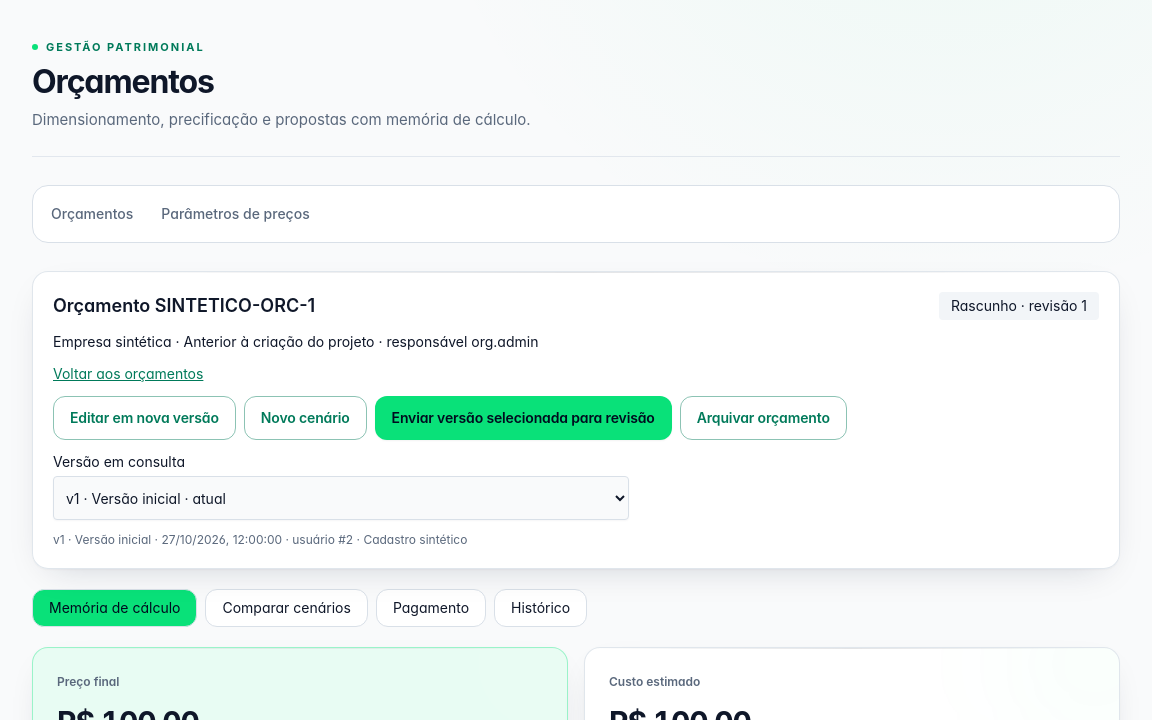
Test: Budget navigation uses real nested pages and version selection › navigates continuously through memory, payments, history, scenario comparison and organization pricing
Expected: the text "Preço final" is shown, [57, 674, 120, 689]
Click the link "Pagamento" at {"x": 431, "y": 608}, box [376, 589, 486, 627]
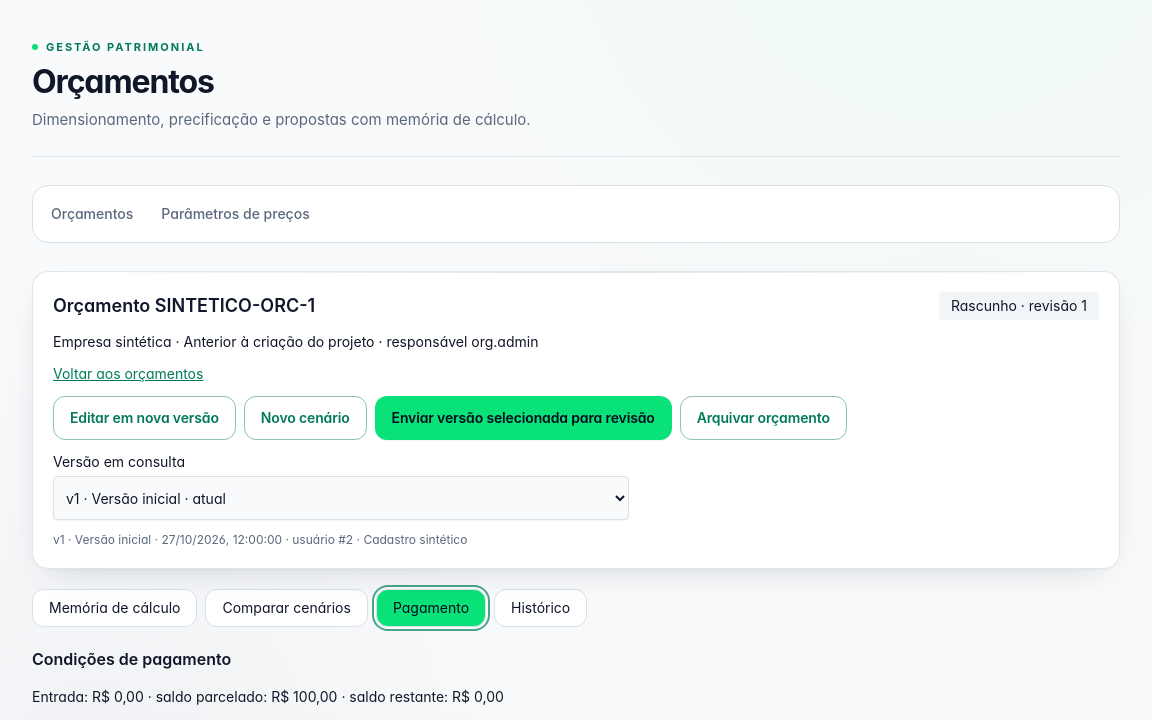
Click the link "Histórico" at {"x": 541, "y": 608}, box [494, 589, 587, 627]
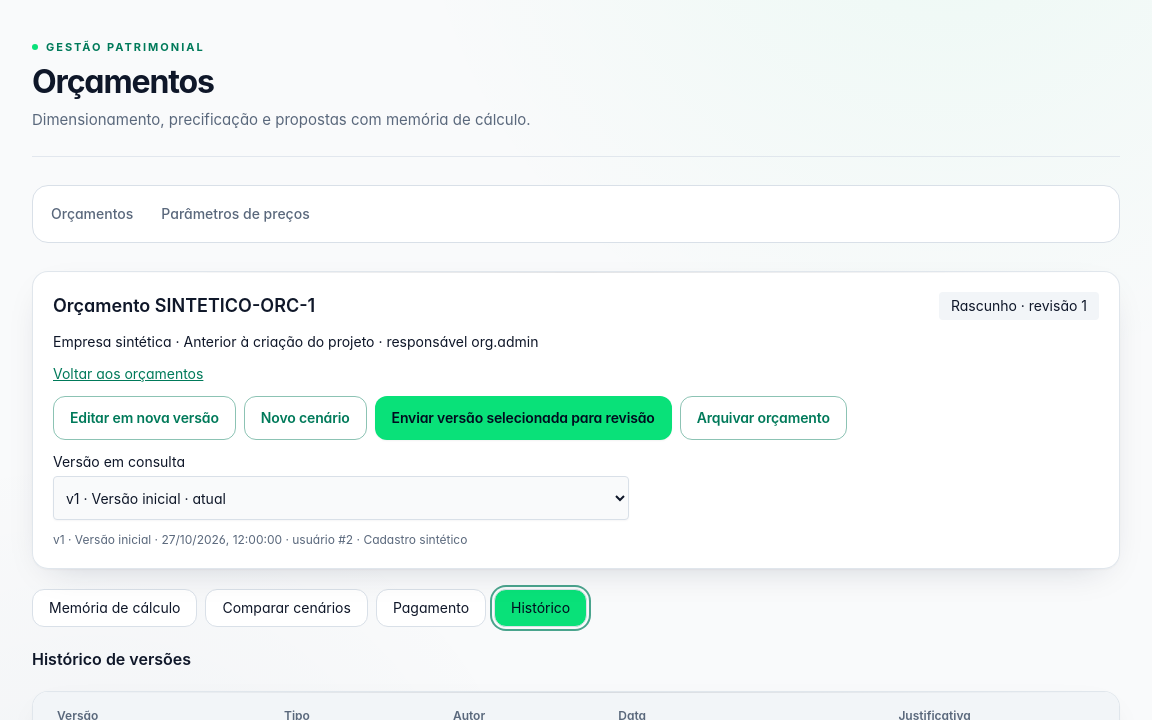
Expected: the heading "Histórico de versões" is shown, [32, 649, 191, 669]
Click the link "Comparar cenários" at {"x": 287, "y": 608}, box [206, 589, 368, 627]
(page scrolled)
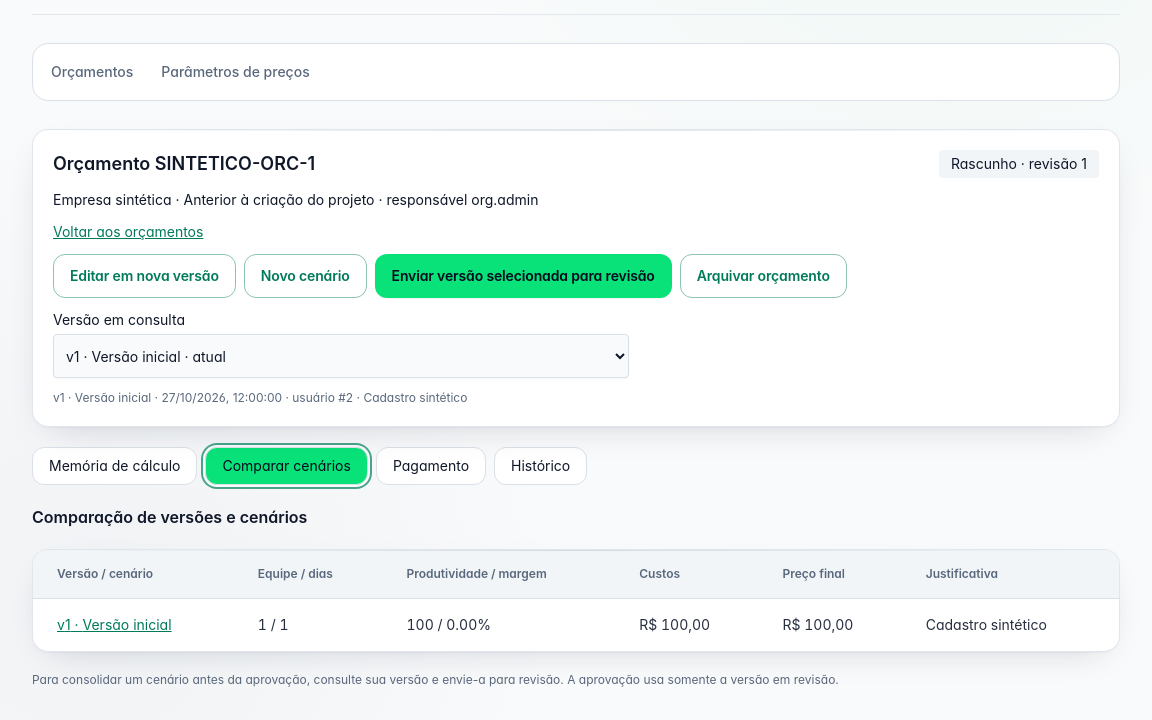
Click the button "v1 · Versão inicial" at {"x": 114, "y": 625}, box [57, 615, 172, 635]
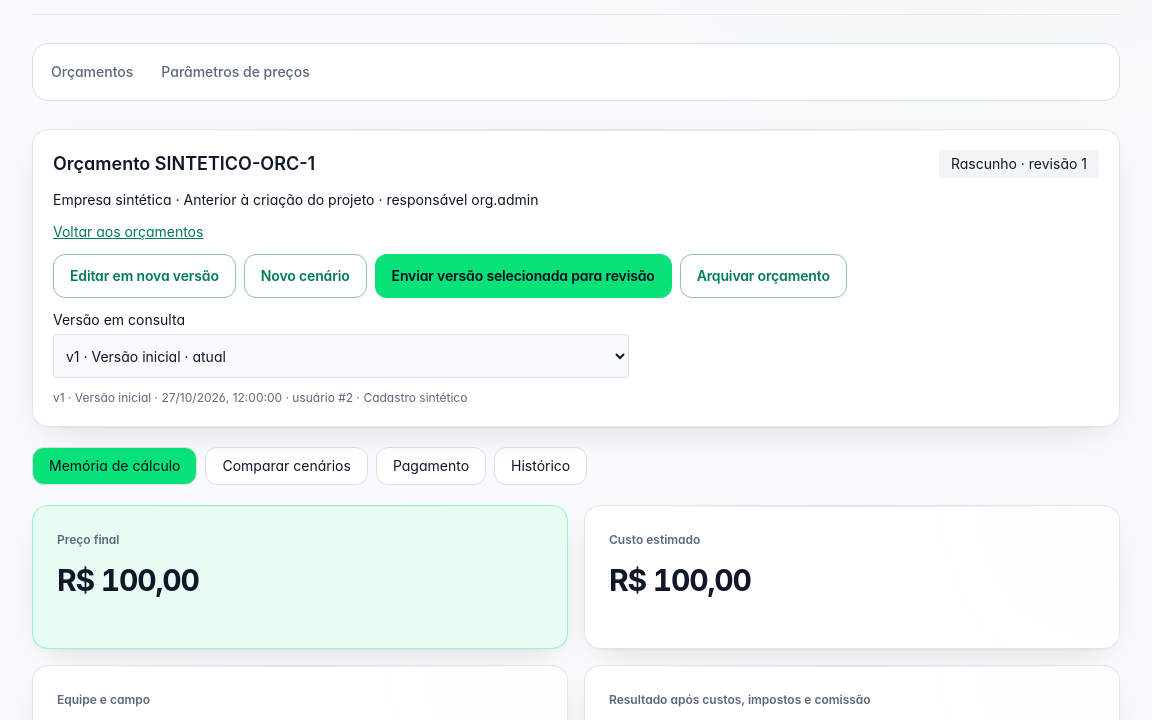
Expected: the text "Preço final" is shown, [57, 532, 120, 547]
Click the link "Parâmetros de preços" at {"x": 236, "y": 72}, box [161, 63, 310, 80]
(page scrolled)
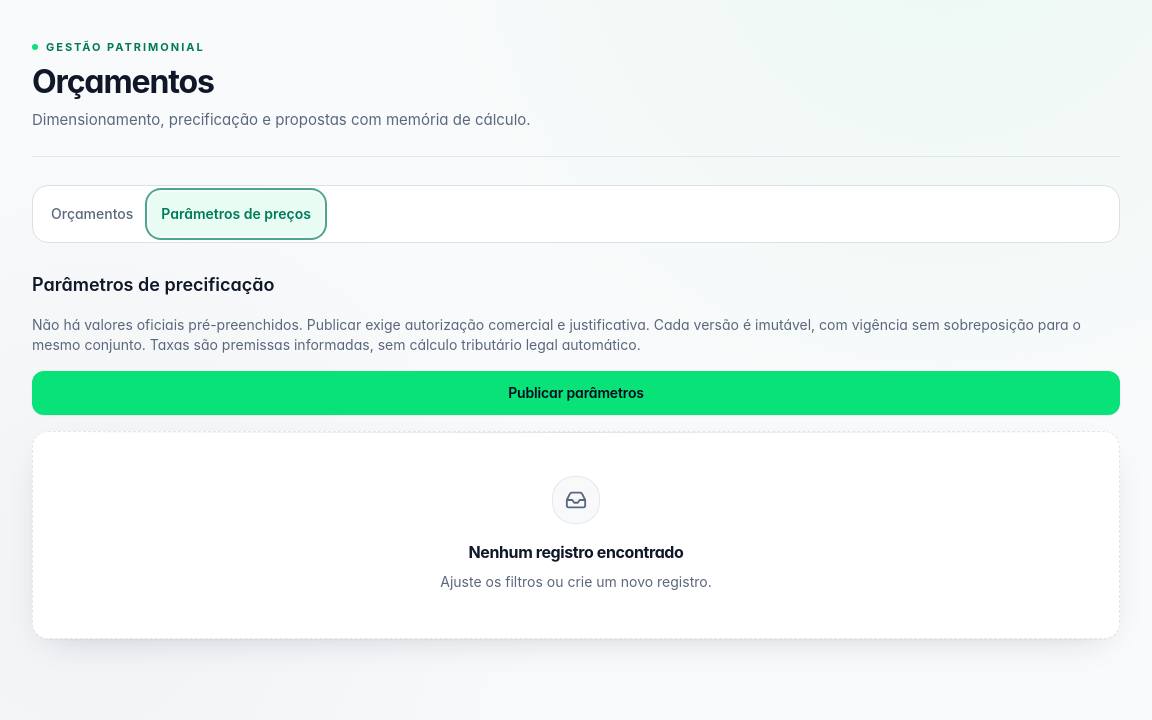
Expected: the navigation bar named "Navegação de orçamentos" is shown, [32, 185, 1120, 243]
Expected: the heading "Parâmetros de precificação" is shown, [32, 274, 274, 295]
